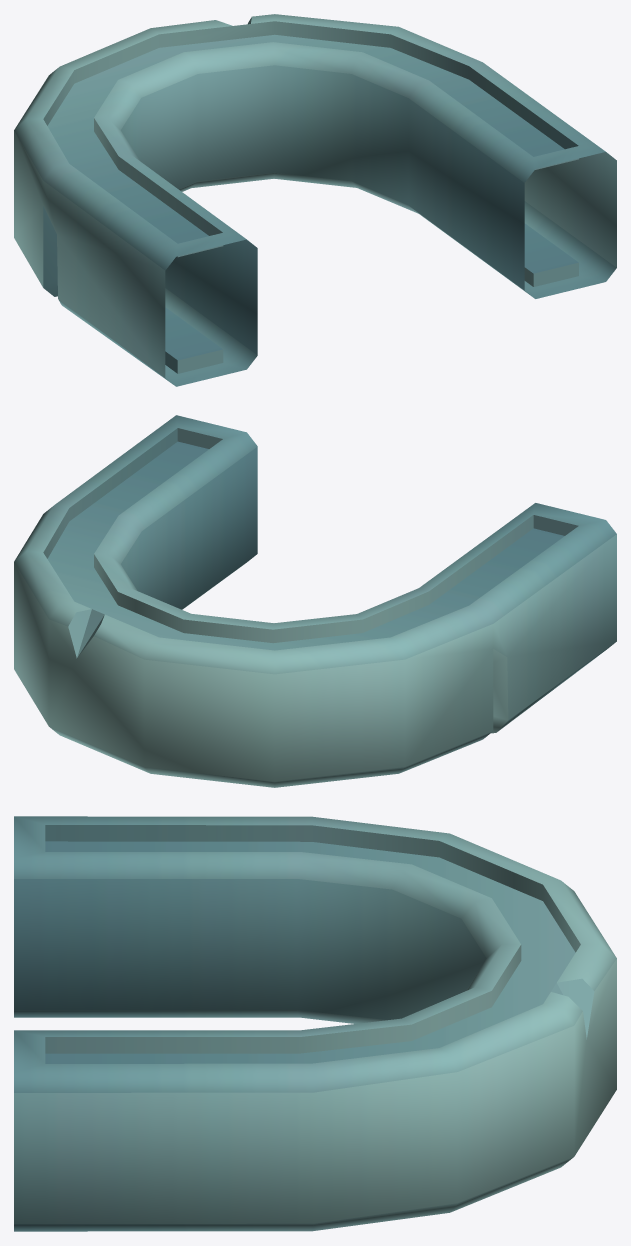
The model's file is Arc 01.FBX.
3 views of the same model, one above another, from view 1: azimuth 30°, elevation 25°; view 2: azimuth 150°, elevation 25°; view 3: azimuth 270°, elevation 25° (orthographic). The views are drawn at different scales.
Visible parts, largest first — view 1: Arc 01; view 2: Arc 01; view 3: Arc 01.
Part boxes in pixels (bbox=[...]): Arc 01: bbox=[14, 14, 616, 386]; Arc 01: bbox=[14, 415, 616, 787]; Arc 01: bbox=[14, 816, 616, 1231].
Size of the model in its own units: 581 by 162 by 550.
Materials: 1 (1 with a texture image).
